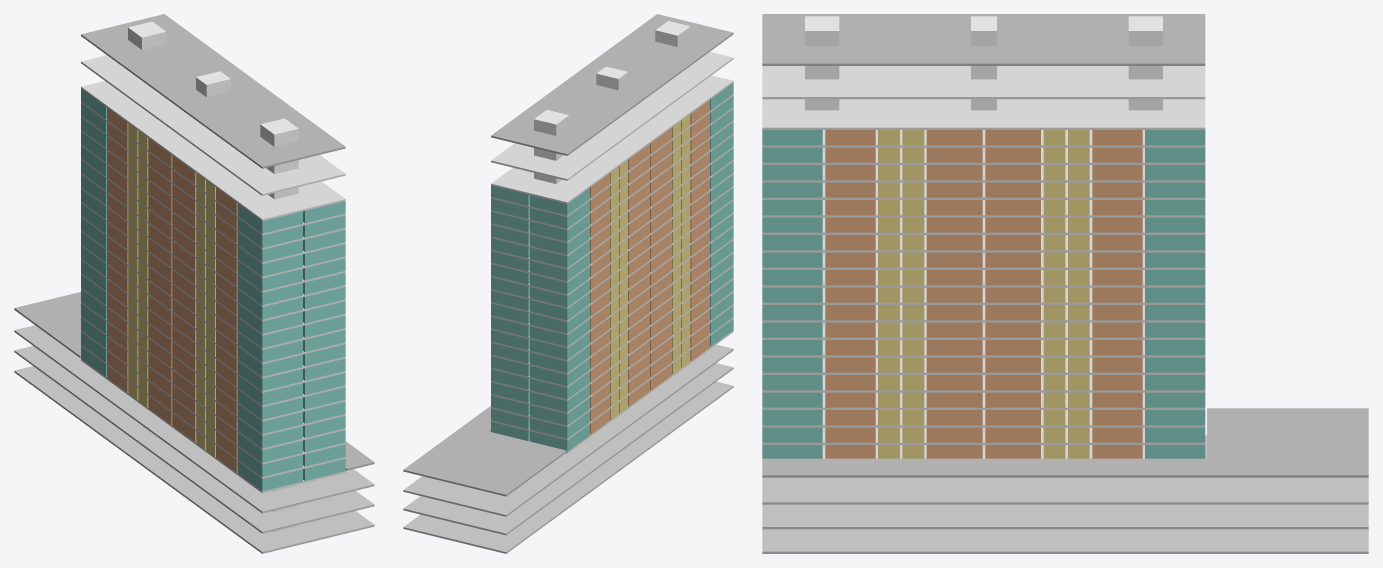
The model's file is building.glb.
3 views of the same model, side by side, from view 1: azimuth 30°, elevation 25°; view 2: azimuth 150°, elevation 25°; view 3: azimuth 270°, elevation 25° (orthographic). The views are drawn at different scales.
Parts seen in each view (by area): view 1: 5edb75b3-4108-474b-a56b-8dc93ce91471_mesh, cfe3a54c-193c-4302-b034-8e3c661defe5_mesh, 6a90e01b-9420-42dd-91f8-ae2a234bc73f_mesh, 43372607-723a-4a71-918f-66806c9a7ee7_mesh, 55035de5-9920-4a7b-8ee8-cc40461b8621_mesh, baf29df1-24dc-482c-87b1-82c330ca1b3f_mesh, 7201ec56-927c-45b0-951b-490dc1c2fe33_mesh, 1853f138-88a6-4091-a981-129d77e2c3ca_mesh, 472353b0-d32a-40c5-acfe-8a5ff2716420_mesh, 8162df80-99e6-424f-abb8-1a01f95eaeb6_mesh, af16fa64-1cda-4d01-8fe5-42e52cea1b0c_mesh, fd352d03-bf57-4e7b-8be8-eb49aee3ed0a_mesh (+55 smaller); view 2: 5edb75b3-4108-474b-a56b-8dc93ce91471_mesh, 7201ec56-927c-45b0-951b-490dc1c2fe33_mesh, cfe3a54c-193c-4302-b034-8e3c661defe5_mesh, 43372607-723a-4a71-918f-66806c9a7ee7_mesh, 6a90e01b-9420-42dd-91f8-ae2a234bc73f_mesh, 55035de5-9920-4a7b-8ee8-cc40461b8621_mesh, baf29df1-24dc-482c-87b1-82c330ca1b3f_mesh, 66b1e6ff-cba3-41ee-ba65-58a8279993fb_mesh, 6a4ddeca-e237-4d04-adf3-a5485d6c4f60_mesh, 73953277-91e2-4682-8842-196f00b2c003_mesh, e20f9ddc-36cc-49b3-b972-999e1bc2be61_mesh, 5110de58-1209-41f5-91f5-e90558ddee36_mesh (+55 smaller); view 3: 5edb75b3-4108-474b-a56b-8dc93ce91471_mesh, 7201ec56-927c-45b0-951b-490dc1c2fe33_mesh, cfe3a54c-193c-4302-b034-8e3c661defe5_mesh, 43372607-723a-4a71-918f-66806c9a7ee7_mesh, 6a90e01b-9420-42dd-91f8-ae2a234bc73f_mesh, 55035de5-9920-4a7b-8ee8-cc40461b8621_mesh, baf29df1-24dc-482c-87b1-82c330ca1b3f_mesh, 66b1e6ff-cba3-41ee-ba65-58a8279993fb_mesh, 1853f138-88a6-4091-a981-129d77e2c3ca_mesh, d75366b3-4b9a-4daf-b4a8-3bae65084ec1_mesh, 77acf979-ec3f-4a66-882a-60e4cdc217f9_mesh, 0e9fe110-23e1-43e5-9d4f-f4f107a87e2a_mesh (+128 smaller).
Part boxes in pixels (x1,y1,x2,y2): 5edb75b3-4108-474b-a56b-8dc93ce91471_mesh: (81, 14, 345, 168); cfe3a54c-193c-4302-b034-8e3c661defe5_mesh: (14, 325, 374, 513); 6a90e01b-9420-42dd-91f8-ae2a234bc73f_mesh: (14, 366, 374, 553); 43372607-723a-4a71-918f-66806c9a7ee7_mesh: (14, 346, 374, 533); 55035de5-9920-4a7b-8ee8-cc40461b8621_mesh: (81, 55, 345, 195); baf29df1-24dc-482c-87b1-82c330ca1b3f_mesh: (81, 81, 345, 221); 7201ec56-927c-45b0-951b-490dc1c2fe33_mesh: (14, 292, 374, 470); 1853f138-88a6-4091-a981-129d77e2c3ca_mesh: (260, 118, 298, 531); 472353b0-d32a-40c5-acfe-8a5ff2716420_mesh: (237, 432, 302, 462); 8162df80-99e6-424f-abb8-1a01f95eaeb6_mesh: (237, 389, 302, 419); af16fa64-1cda-4d01-8fe5-42e52cea1b0c_mesh: (237, 375, 302, 405); fd352d03-bf57-4e7b-8be8-eb49aee3ed0a_mesh: (237, 332, 302, 362); 5edb75b3-4108-474b-a56b-8dc93ce91471_mesh: (491, 14, 733, 155); 7201ec56-927c-45b0-951b-490dc1c2fe33_mesh: (403, 406, 566, 496); cfe3a54c-193c-4302-b034-8e3c661defe5_mesh: (403, 344, 733, 516); 43372607-723a-4a71-918f-66806c9a7ee7_mesh: (403, 363, 733, 535); 6a90e01b-9420-42dd-91f8-ae2a234bc73f_mesh: (403, 381, 733, 553); 55035de5-9920-4a7b-8ee8-cc40461b8621_mesh: (491, 52, 733, 180); baf29df1-24dc-482c-87b1-82c330ca1b3f_mesh: (491, 75, 733, 203); 66b1e6ff-cba3-41ee-ba65-58a8279993fb_mesh: (534, 110, 569, 183); 6a4ddeca-e237-4d04-adf3-a5485d6c4f60_mesh: (530, 371, 589, 399); 73953277-91e2-4682-8842-196f00b2c003_mesh: (530, 411, 589, 438); e20f9ddc-36cc-49b3-b972-999e1bc2be61_mesh: (530, 398, 589, 425); 5110de58-1209-41f5-91f5-e90558ddee36_mesh: (530, 332, 589, 359); 5edb75b3-4108-474b-a56b-8dc93ce91471_mesh: (762, 14, 1205, 65); 7201ec56-927c-45b0-951b-490dc1c2fe33_mesh: (762, 408, 1368, 477); cfe3a54c-193c-4302-b034-8e3c661defe5_mesh: (762, 435, 1368, 504); 43372607-723a-4a71-918f-66806c9a7ee7_mesh: (762, 504, 1368, 529); 6a90e01b-9420-42dd-91f8-ae2a234bc73f_mesh: (762, 529, 1368, 553); 55035de5-9920-4a7b-8ee8-cc40461b8621_mesh: (762, 66, 1205, 99); baf29df1-24dc-482c-87b1-82c330ca1b3f_mesh: (762, 99, 1205, 129); 66b1e6ff-cba3-41ee-ba65-58a8279993fb_mesh: (1128, 16, 1162, 110); 1853f138-88a6-4091-a981-129d77e2c3ca_mesh: (805, 16, 839, 110); d75366b3-4b9a-4daf-b4a8-3bae65084ec1_mesh: (762, 410, 1205, 427); 77acf979-ec3f-4a66-882a-60e4cdc217f9_mesh: (762, 375, 1205, 392); 0e9fe110-23e1-43e5-9d4f-f4f107a87e2a_mesh: (762, 340, 1205, 357).
Size of the model in its own units: 28.33 by 97.29 by 108.
